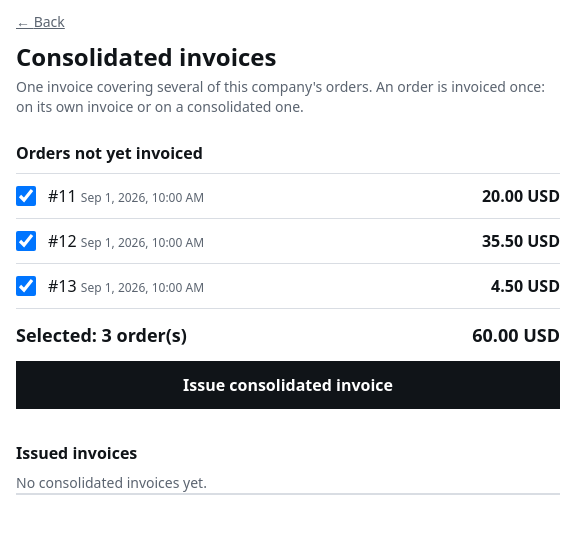
Test: consolidated invoices › explains a race with another person in plain words
This screenshot has width=577, height=540.
Click the button "Issue consolidated invoice".
click(288, 385)  # box [16, 361, 560, 409]
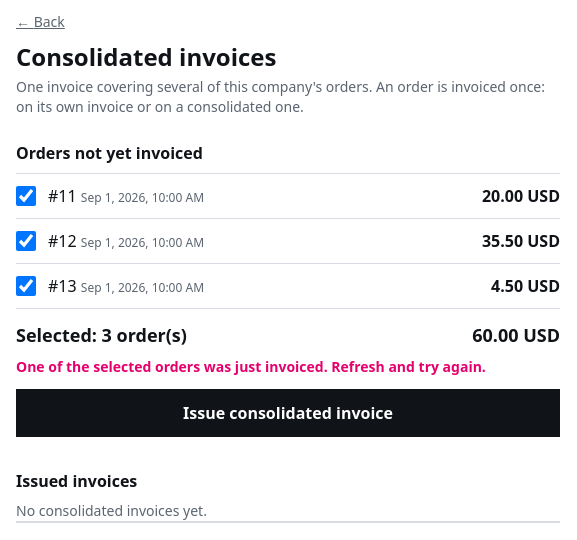
Result: the message reads "One of the selected orders was just invoiced. Refresh and try again." at [16, 357, 486, 376]
